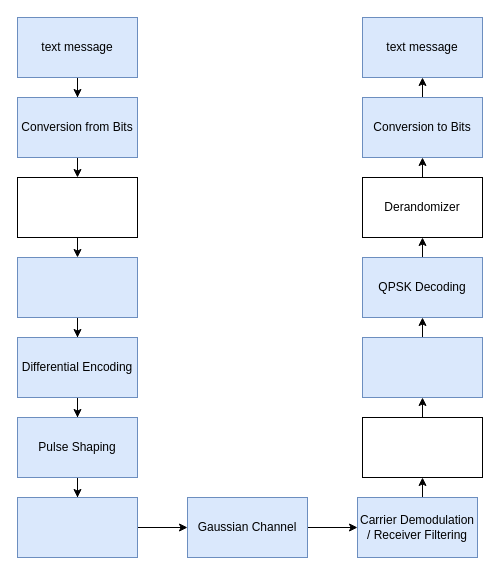
Some shapes in this 500 by 575 pixel diagram are drawn without their labels. The box of each missing label's shape, as (x1, y1, x2, y2) in pixels:
Carrier Modulation: (16, 496, 138, 558)
Differential Decoding: (362, 336, 482, 398)
QPSK Encoding: (16, 256, 138, 318)
Randomizer: (16, 176, 138, 238)
Symbol Timing / Matched Filter: (362, 416, 482, 478)
